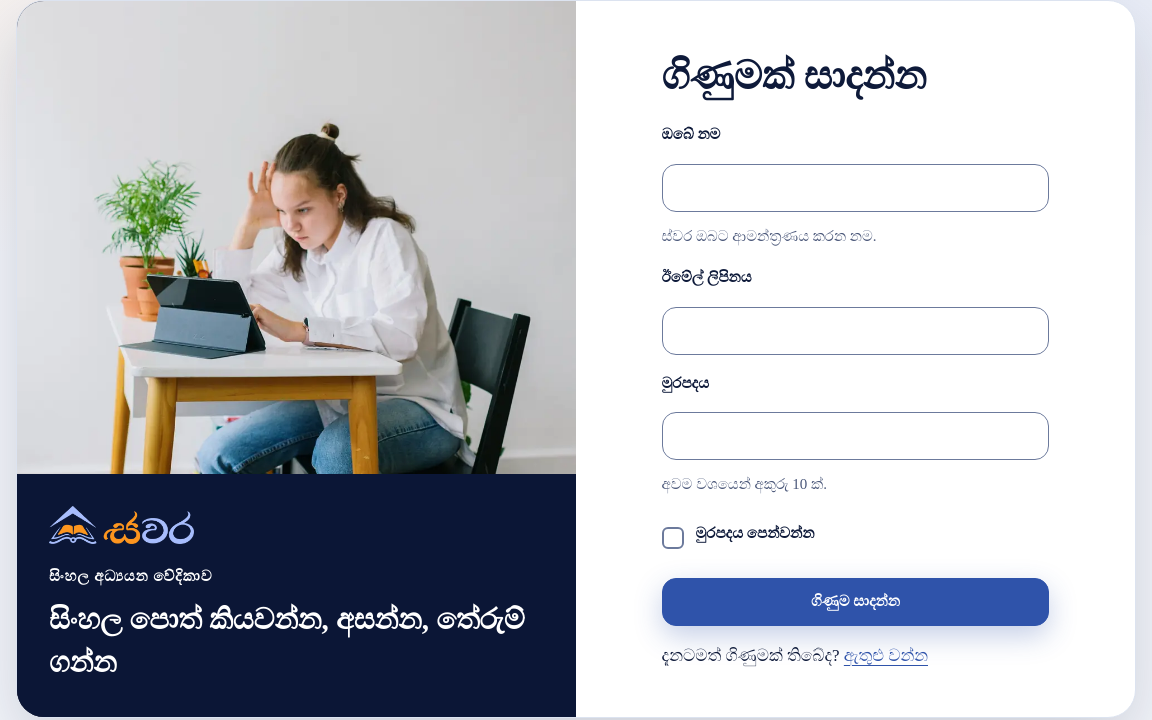
Test: making an account › offers the code as a copy and as a file
The image size is (1152, 720).
Type "සිතාරා" into the field labelled "ඔබේ නම" at point(856, 188), box [662,164,1049,212]
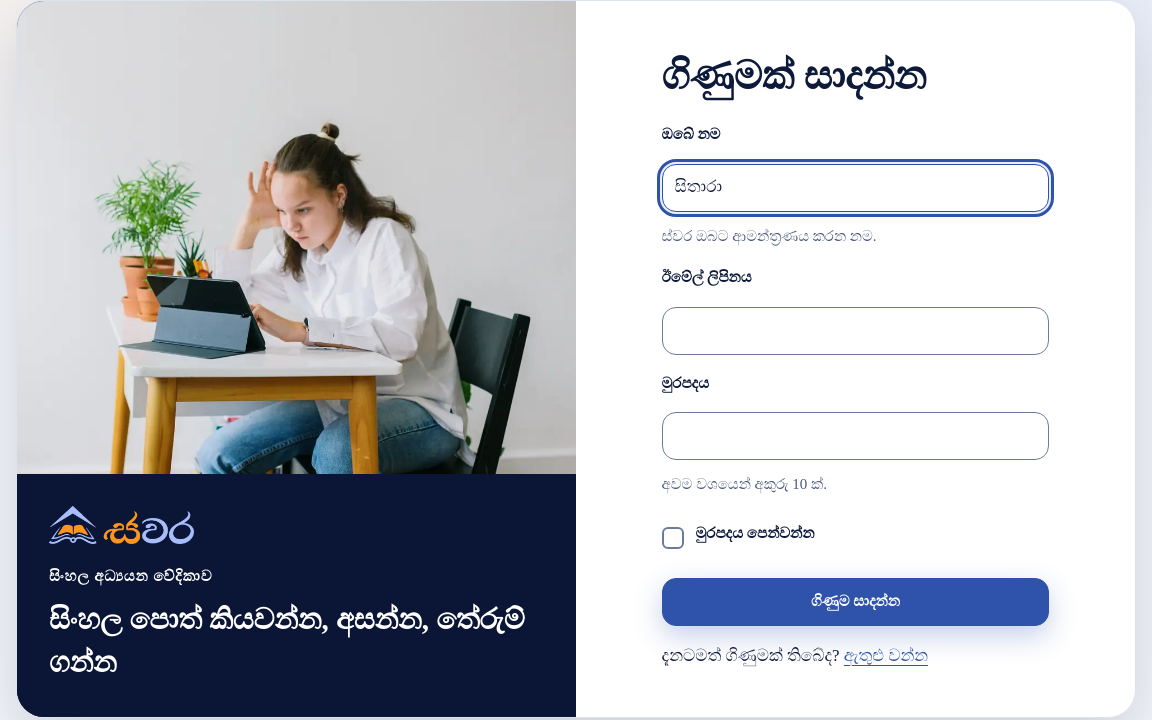
Type "new@example.lk" into the field labelled "ඊමේල් ලිපිනය" at point(856, 331), box [662,307,1049,355]
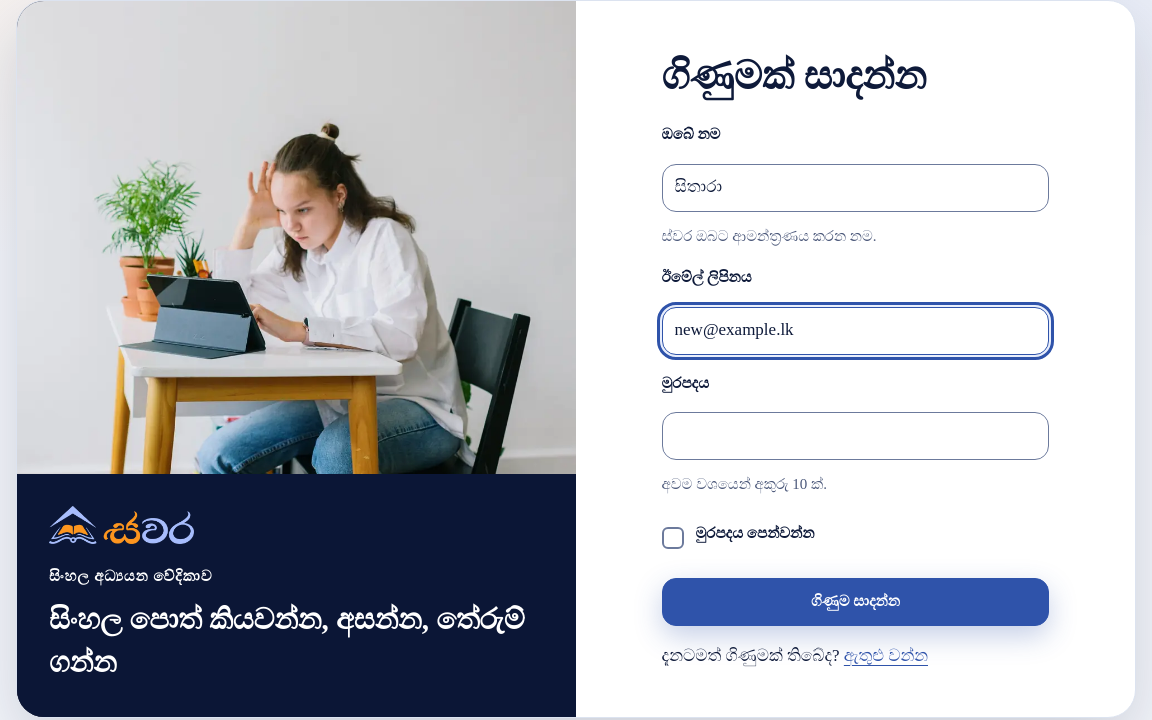
Type "a-long-enough-password" into the password field labelled "මුරපදය" at point(856, 436), box [662,412,1049,460]
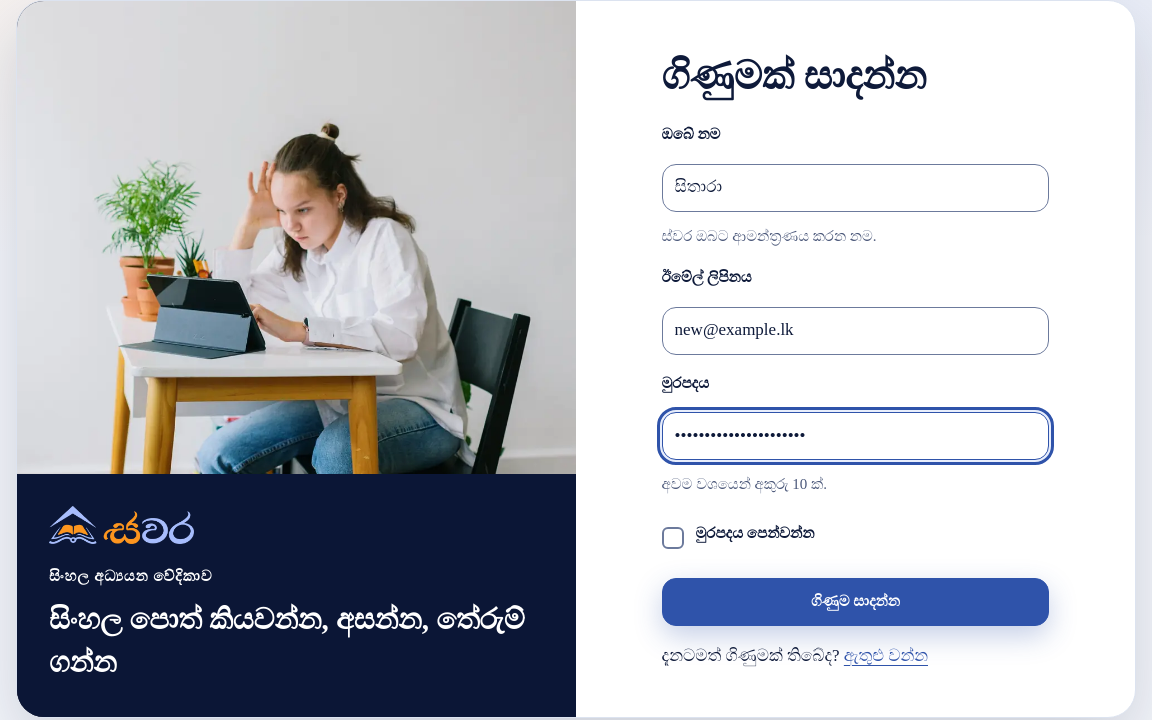
Click the button "ගිණුම සාදන්න" at point(856, 602), box [662,578,1049,626]
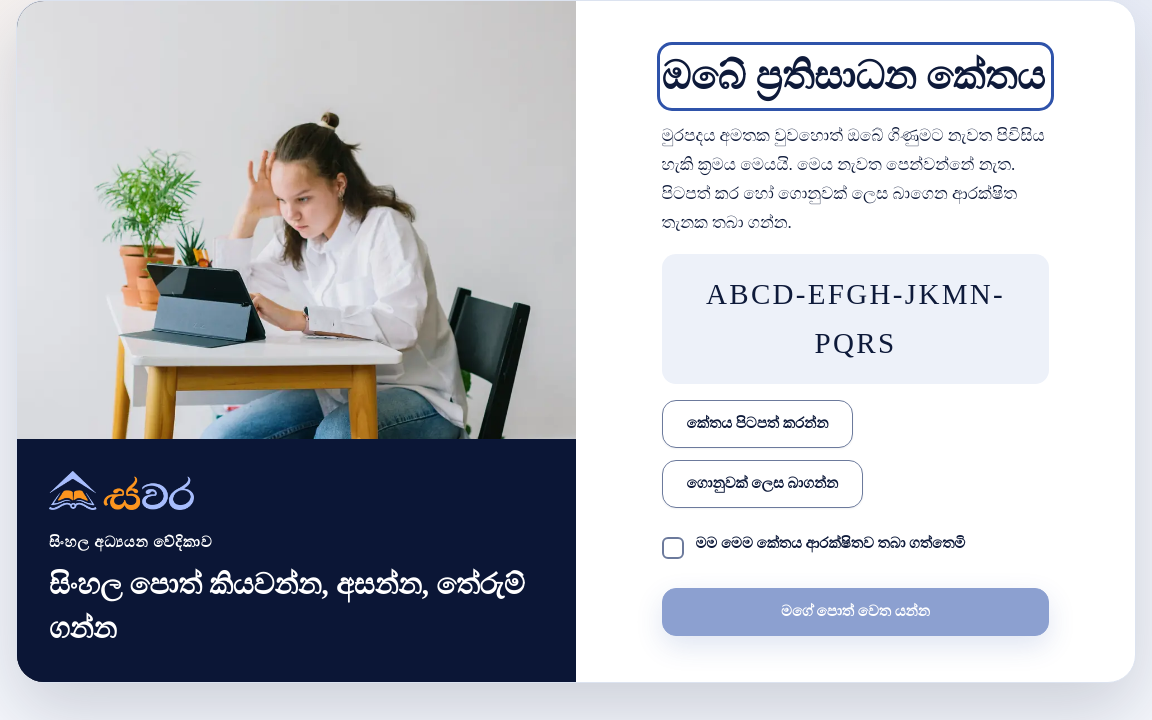
Expected: the button "කේතය පිටපත් කරන්න" is shown, [662,400,853,448]
Expected: the button "ගොනුවක් ලෙස බාගන්න" is shown, [662,460,863,508]
